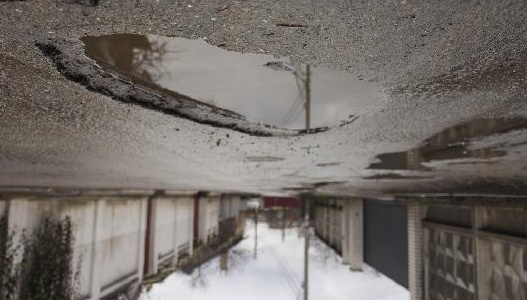pothole: (35, 31, 388, 141)
